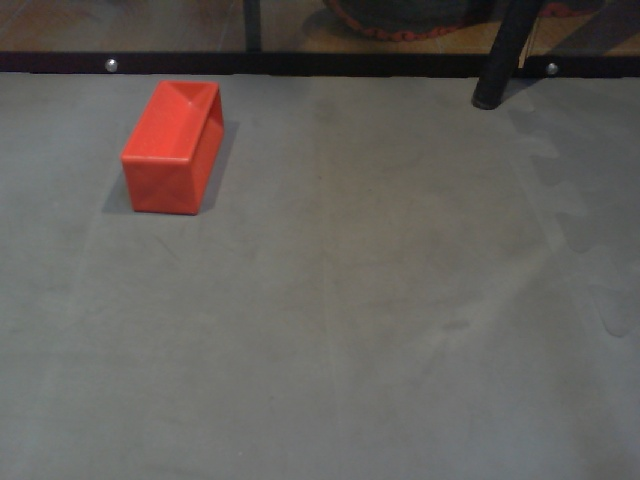RedSample: (119, 79, 226, 219)
